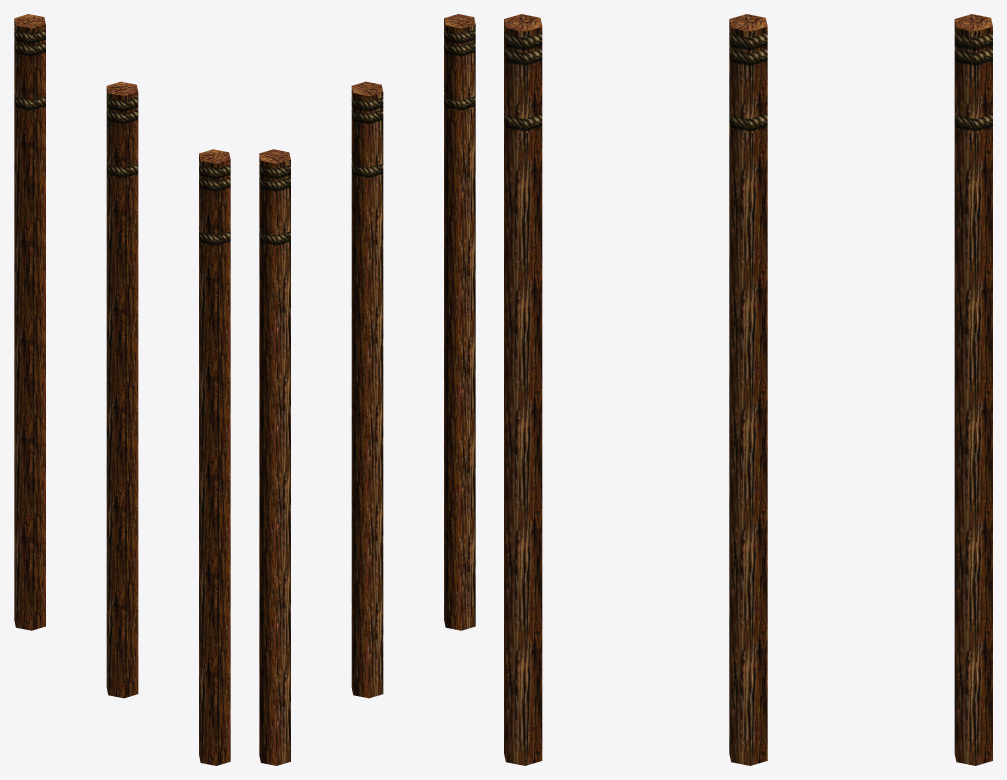
Rendered from INST_LT_WATERPOSTS_01.fbx.
The picture shows the model from 3 angles, left to right: view 1: azimuth 30°, elevation 25°; view 2: azimuth 150°, elevation 25°; view 3: azimuth 270°, elevation 25°; orthographic projection. The views are drawn at different scales.
Parts seen in each view (by area): view 1: INST_LT_WATERPOSTS_01; view 2: INST_LT_WATERPOSTS_01; view 3: INST_LT_WATERPOSTS_01.
Boxes of the visible parts, box(x1,y1,x2,y2) form: INST_LT_WATERPOSTS_01: box(14, 14, 230, 765); INST_LT_WATERPOSTS_01: box(259, 14, 475, 765); INST_LT_WATERPOSTS_01: box(504, 14, 992, 765).
Bounding box in the file's own units: 4404 × 84466 × 50983.
Materials: 3 (3 with a texture image).
